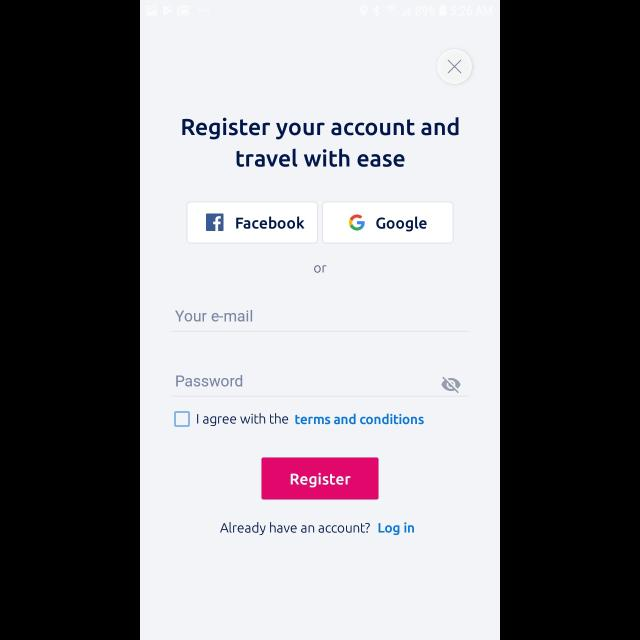checkbox: (174, 412, 190, 426)
icon: (438, 49, 472, 85), (442, 376, 461, 394)
input: (172, 310, 468, 332), (172, 375, 468, 397)
text: (182, 116, 458, 168), (198, 414, 424, 426), (220, 521, 370, 535), (175, 310, 252, 322), (176, 375, 244, 387), (378, 522, 414, 536), (314, 265, 326, 273)
textbutton: (188, 200, 318, 243), (322, 202, 453, 244), (262, 458, 378, 500)
uppertaskbar: (140, 1, 500, 22)
